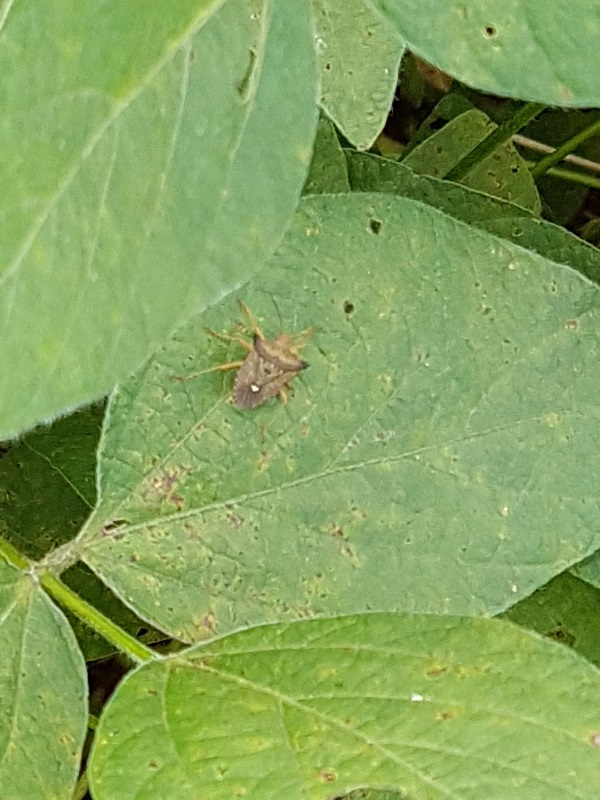Euschistus_heros_adulto: (187, 290, 327, 433)
